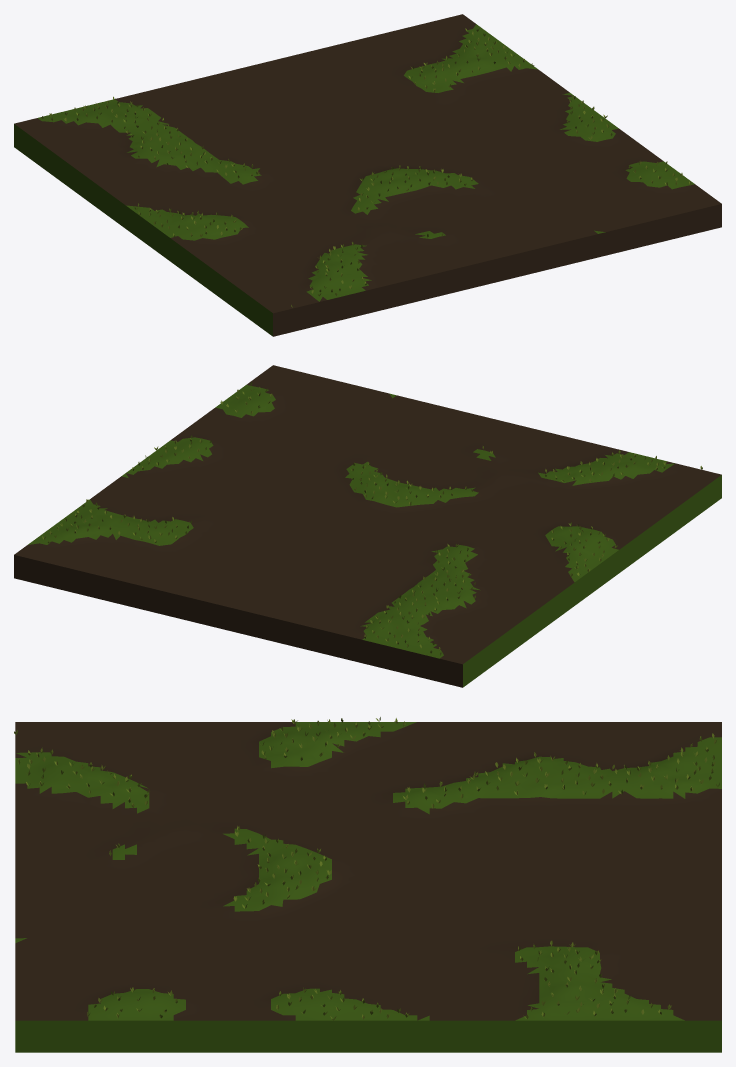
Rendered from trees_moss.glb.
The picture shows the model from 3 angles, top to bottom: view 1: azimuth 30°, elevation 25°; view 2: azimuth 150°, elevation 25°; view 3: azimuth 270°, elevation 25°; orthographic projection. The views are drawn at different scales.
Visible parts, largest first — view 1: ground, moss; view 2: ground, moss; view 3: ground, moss.
Part boxes in pixels (x1,y1,x2,y2): ground: (14, 14, 721, 336); moss: (41, 28, 691, 307); ground: (14, 365, 721, 687); moss: (42, 381, 702, 655); ground: (15, 722, 721, 1052); moss: (14, 717, 719, 1020).
Bounding box in the file's own units: 0.8066 × 0.0544 × 0.8014.
